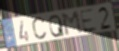2: (97, 6, 113, 30)
4: (19, 20, 30, 43)
C: (31, 15, 48, 42)
E: (79, 8, 99, 34)
M: (60, 10, 85, 38)
Q: (48, 14, 66, 39)
